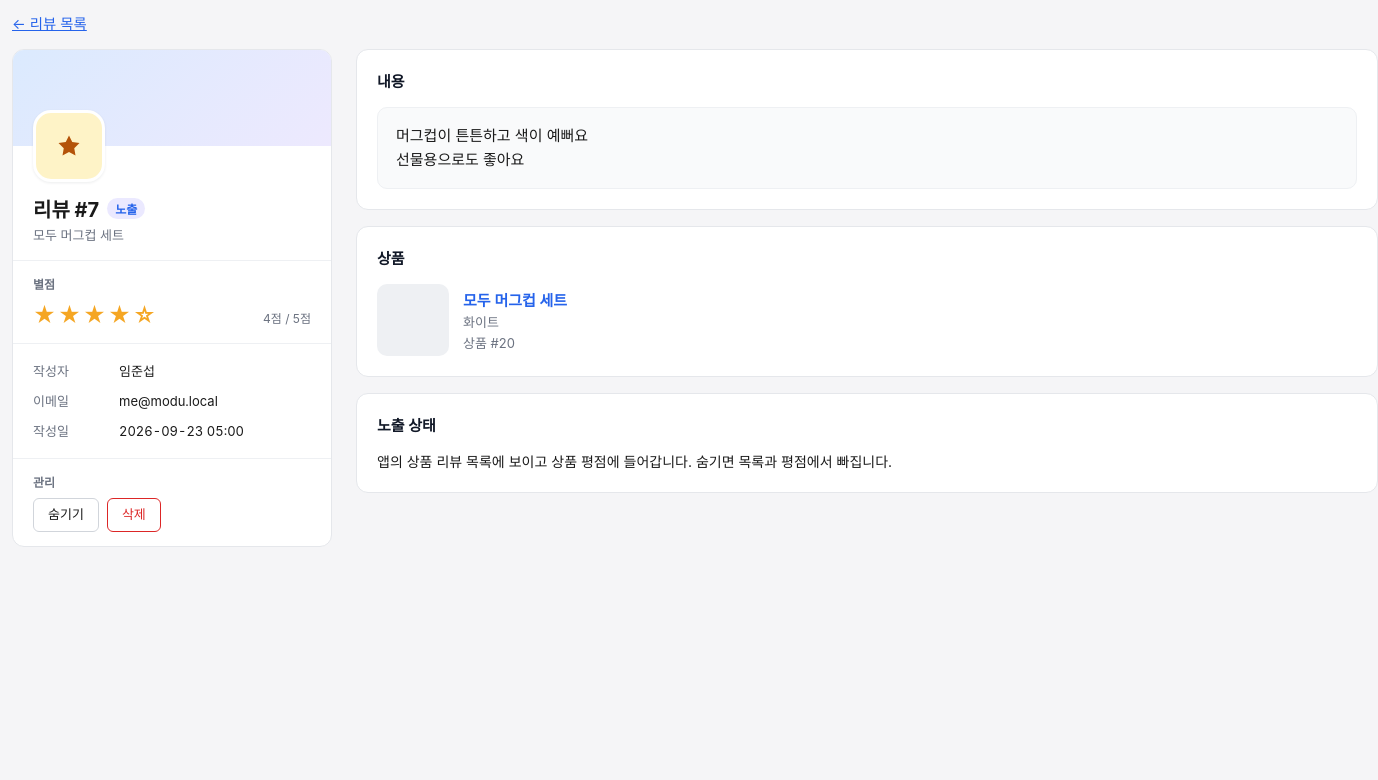
ReviewDetailPage › hides with a reason and shows the hidden badge and reason
Click the button "숨기기" at (66, 515), box [33, 498, 99, 532]
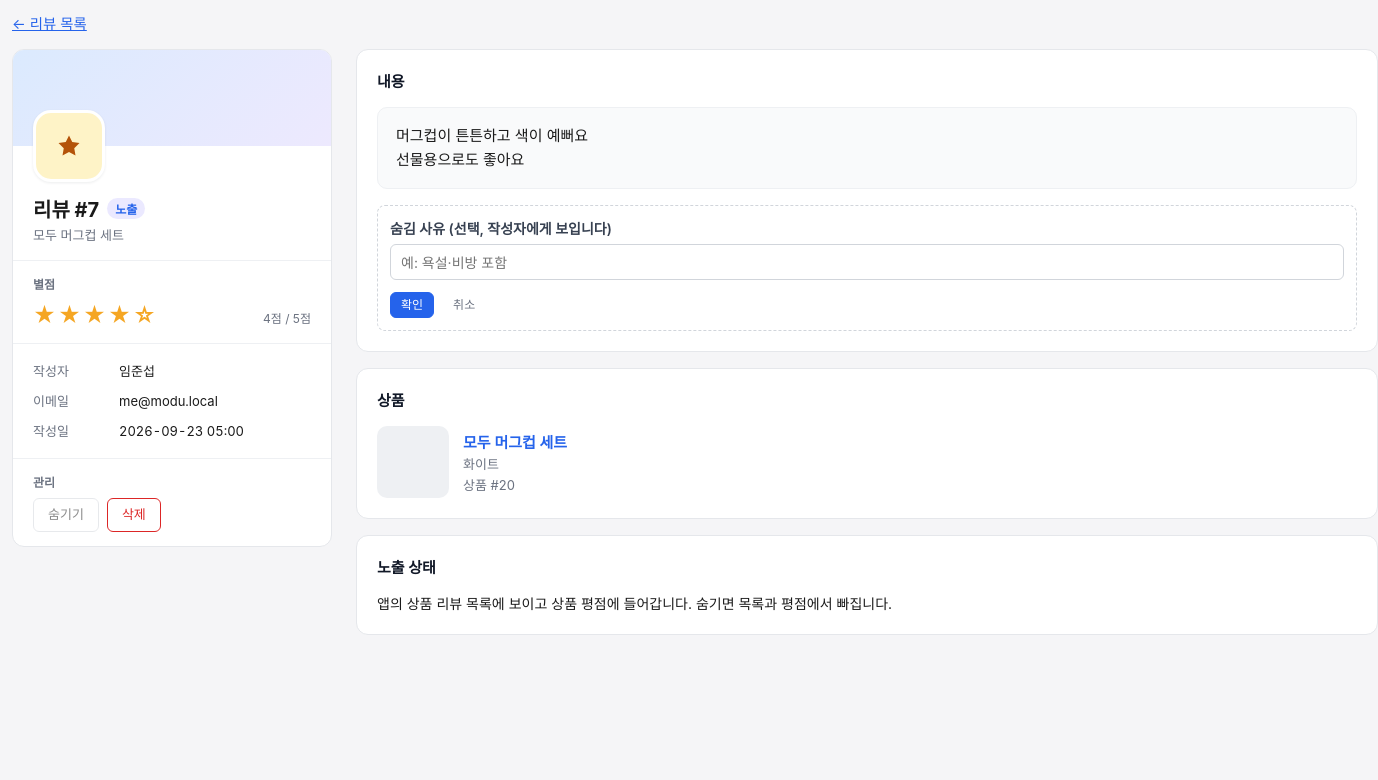
Type "욕설 포함" into the field labelled "숨김 사유" at (867, 262), box [390, 244, 1344, 280]
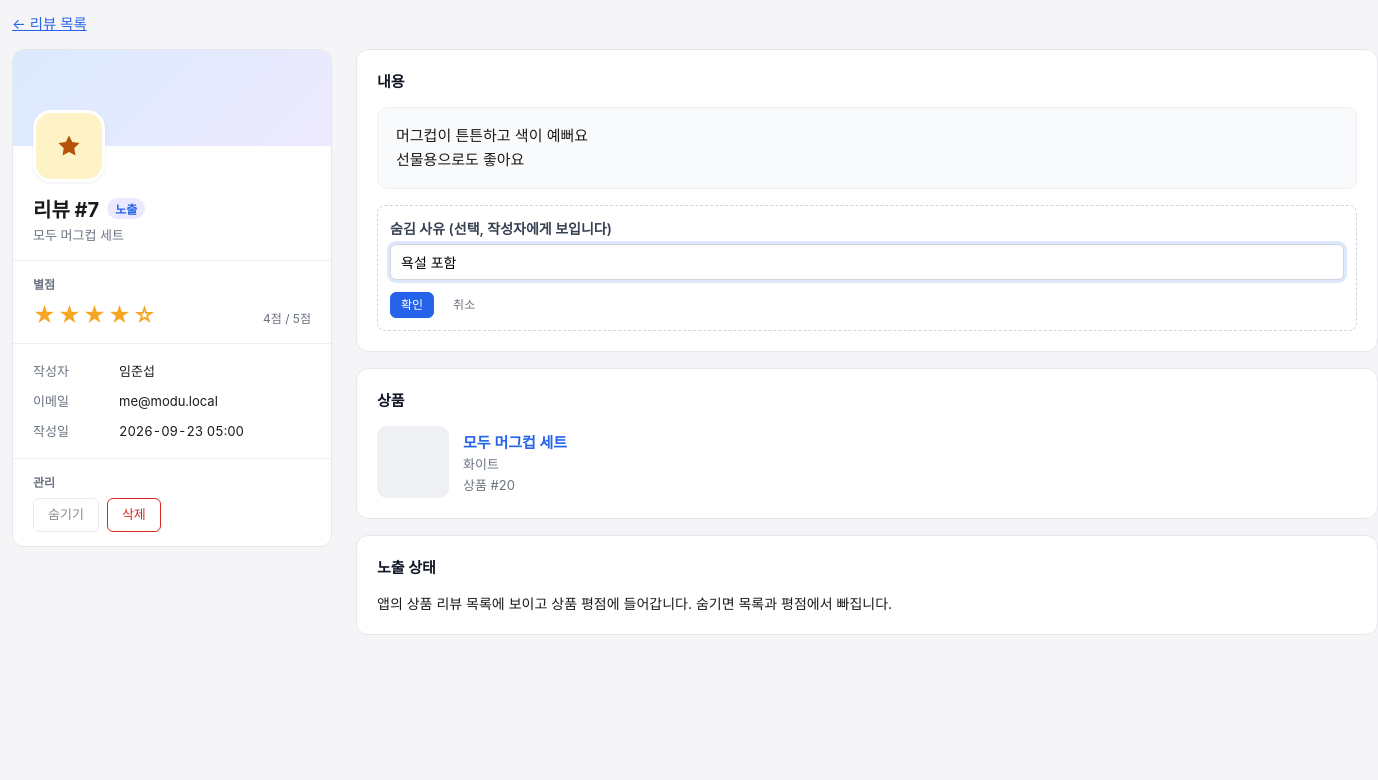
Click the button "확인" at (412, 305), box [390, 292, 434, 318]
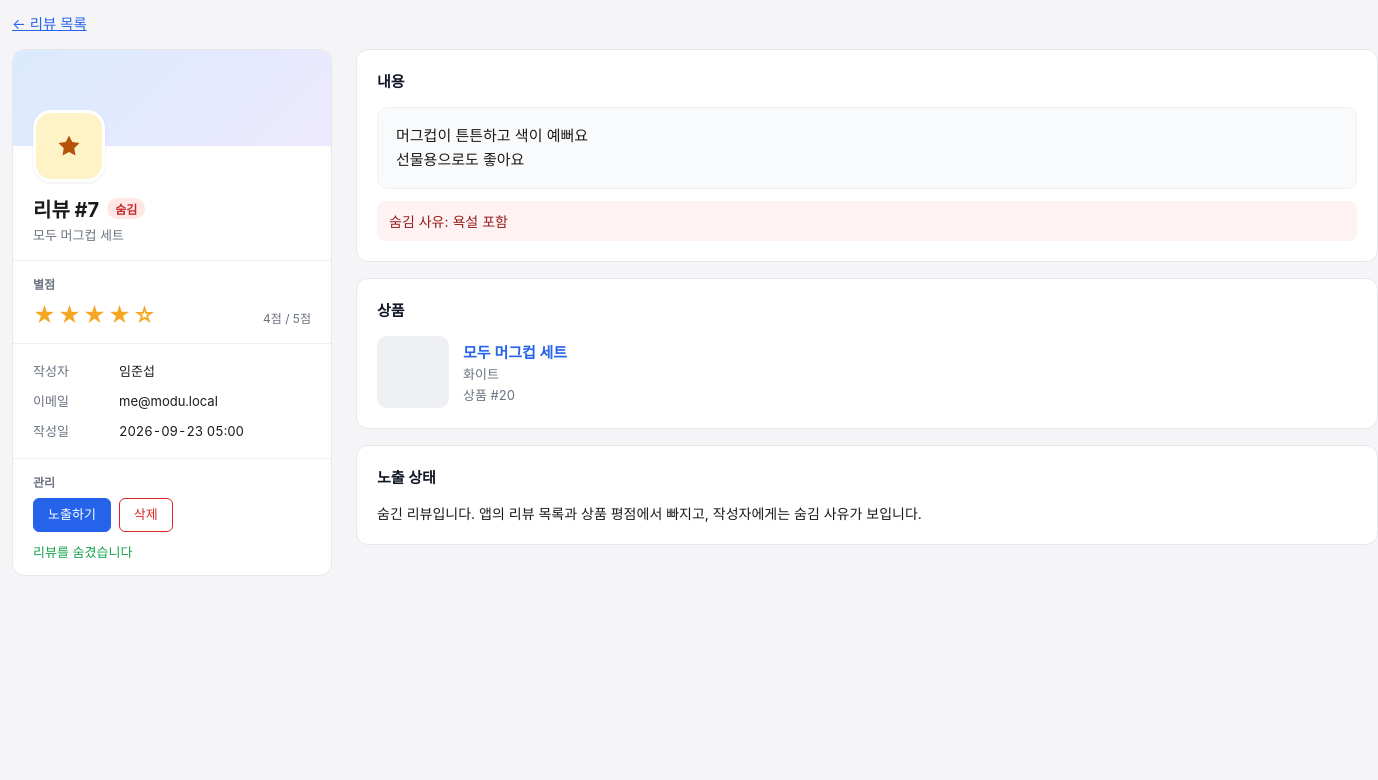
Expected: the text "리뷰를 숨겼습니다" is shown, [33, 544, 132, 560]
Expected: the text "숨김 사유: 욕설 포함" is shown, [377, 201, 1357, 241]
Expected: the button "노출하기" is shown, [33, 498, 111, 532]
